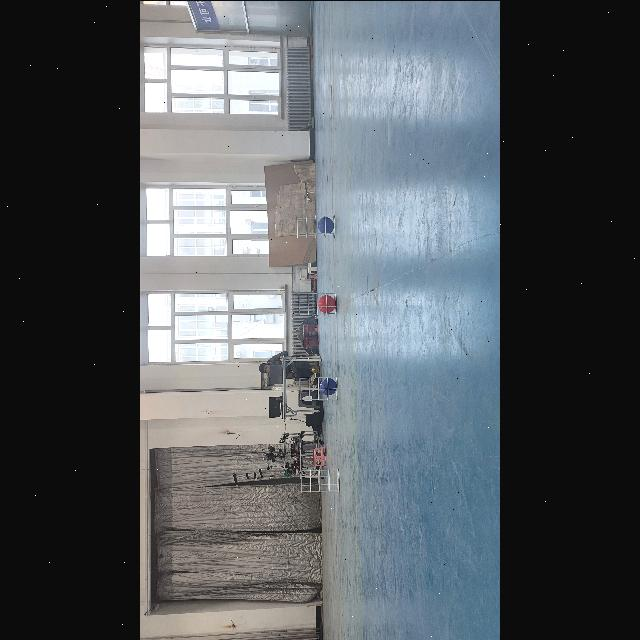B: (320, 377, 338, 395), (318, 217, 334, 233)
R: (318, 296, 336, 312)
S: (298, 465, 342, 495), (296, 374, 342, 402), (294, 212, 338, 240), (296, 290, 338, 316)
